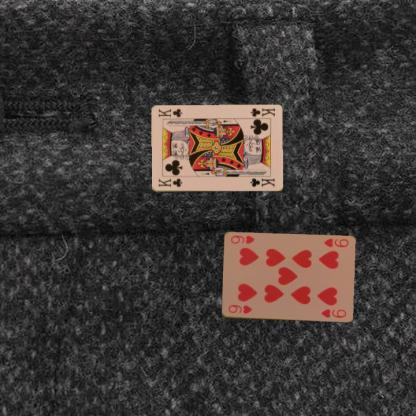9h: (225, 302, 253, 315), (321, 236, 350, 248)
Kc: (156, 176, 183, 188), (248, 106, 275, 118)
